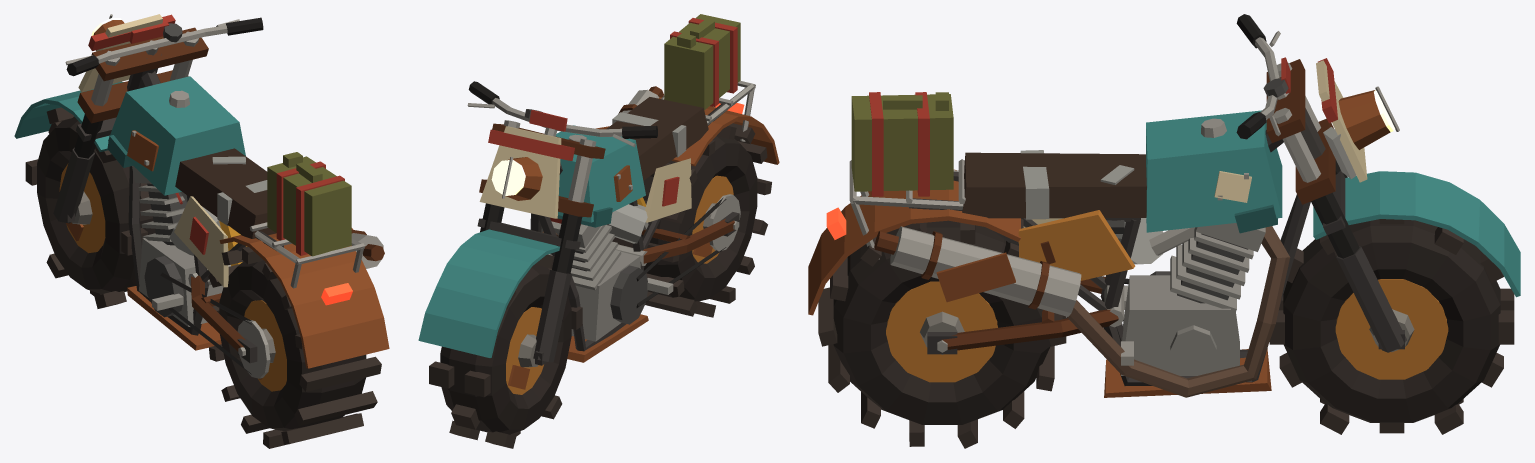
File: sandbike.glb
The picture shows the model from 3 angles, left to right: view 1: azimuth 30°, elevation 25°; view 2: azimuth 150°, elevation 25°; view 3: azimuth 270°, elevation 25°; orthographic projection. The views are drawn at different scales.
Parts seen in each view (by area): view 1: Body, RearWheel, Handlebar, FrontWheel; view 2: Body, Handlebar, FrontWheel, RearWheel; view 3: Body, FrontWheel, RearWheel, Handlebar.
Part boxes in pixels (box(x1,y1,x2,y2)): Body: box(107, 54, 389, 378); RearWheel: box(208, 246, 381, 448); Handlebar: box(14, 14, 263, 223); FrontWheel: box(25, 107, 155, 308); Body: box(530, 14, 779, 362); Handlebar: box(418, 81, 657, 365); FrontWheel: box(429, 254, 582, 448); RearWheel: box(612, 123, 771, 317); Body: box(808, 92, 1325, 397); FrontWheel: box(1269, 219, 1514, 434); RearWheel: box(818, 218, 1066, 448); Handlebar: box(1236, 14, 1520, 352).
Bounding box in the file's own units: 0.8151 × 1.2 × 2.16.
